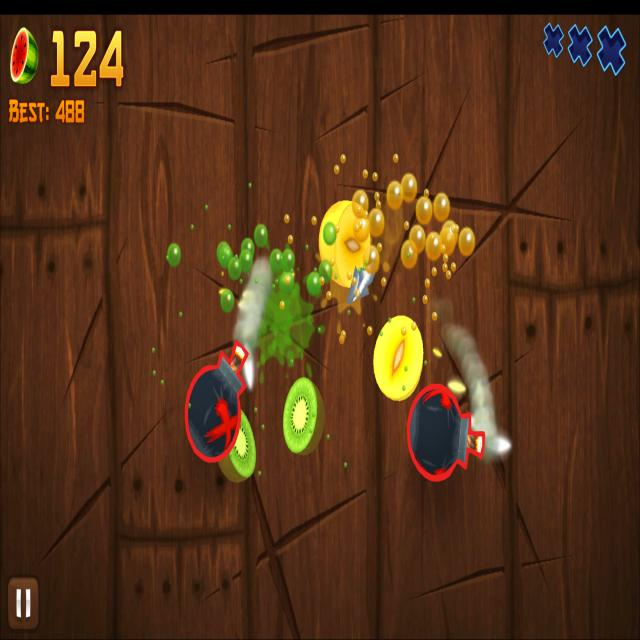bomb: (183, 338, 249, 464), (406, 382, 486, 482)
